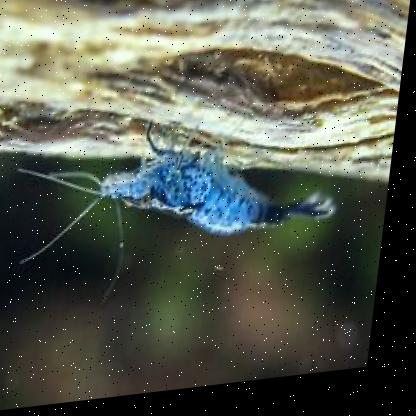shrimp: (86, 121, 350, 259)
